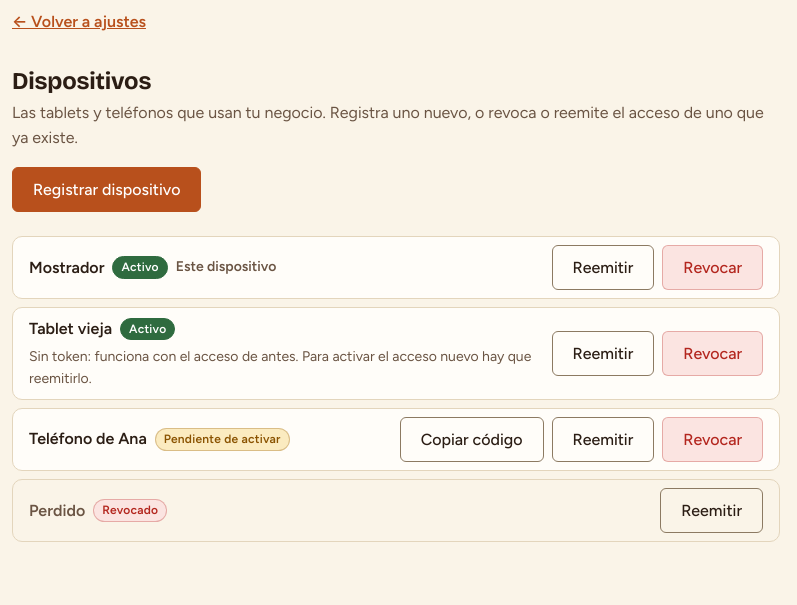
Test: DevicesView — copiar el código de un dispositivo pendiente › copia el código de esa fila y lo anuncia
Click the button "Copiar código": [472, 439] box x1=400 y1=416 x2=544 y2=462
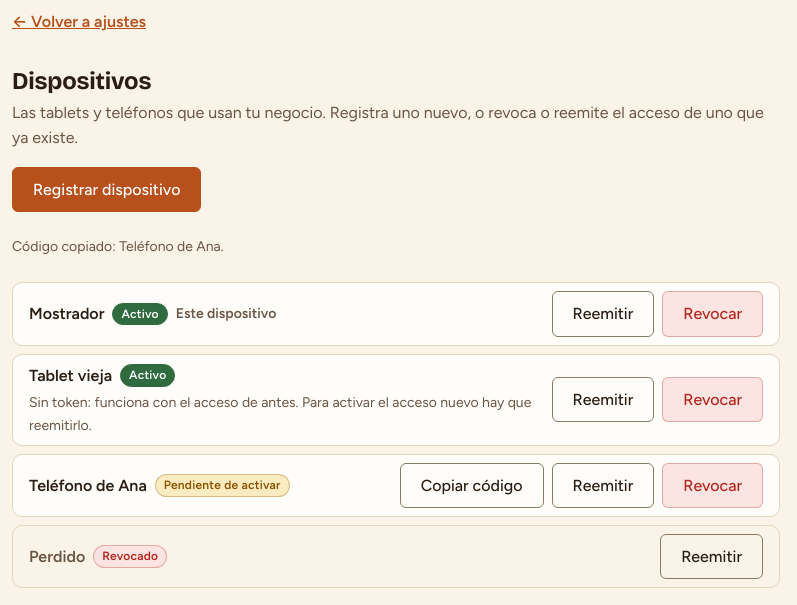
Result: the message with class "devices-view__copy" shows "Código copiado" at x1=12 y1=238 x2=224 y2=255
Result: the message with class "devices-view__copy" shows "Teléfono de Ana" at x1=12 y1=238 x2=224 y2=255
